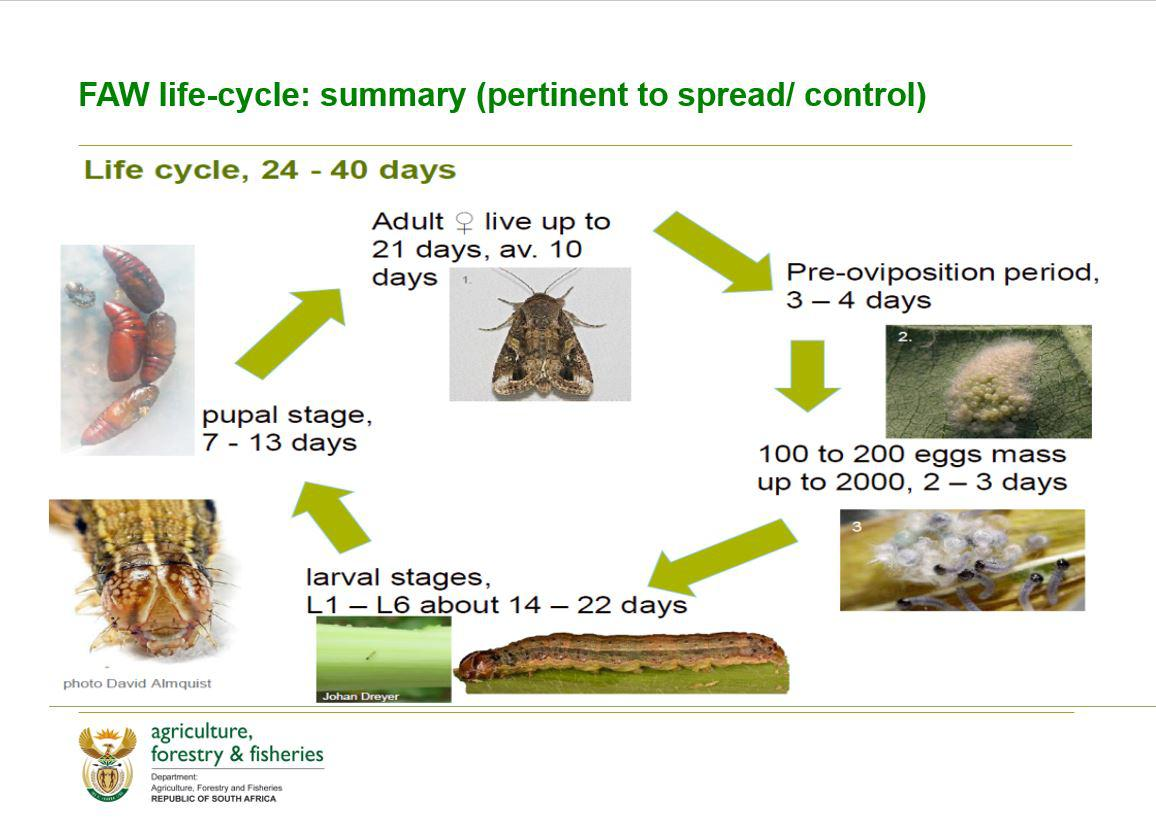eggs: (867, 516, 1065, 610), (933, 338, 1075, 438)
larva: (45, 498, 225, 664), (461, 624, 795, 700)
moth: (489, 274, 605, 402)
pupa: (71, 376, 203, 450), (91, 278, 151, 386), (97, 240, 181, 308), (141, 300, 179, 398)
